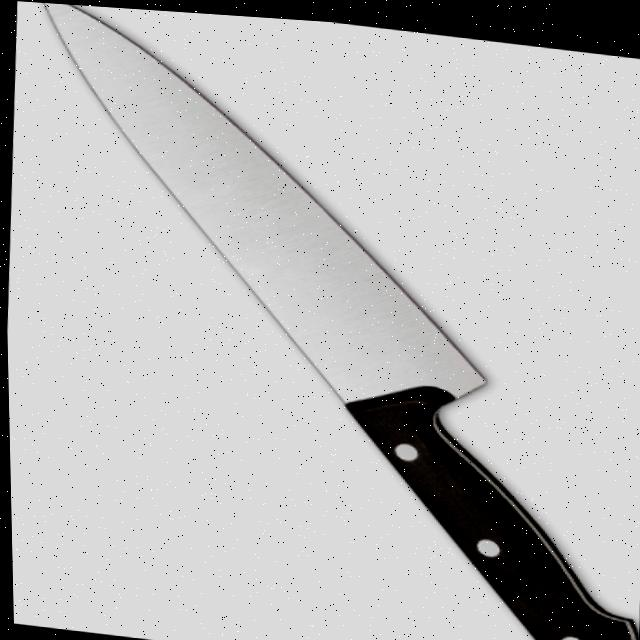knife: (4, 0, 640, 640)
